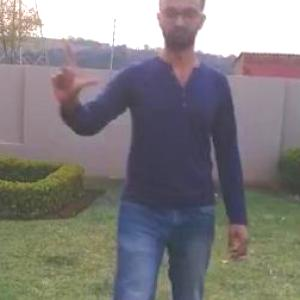land_hand: (45, 31, 99, 108)
